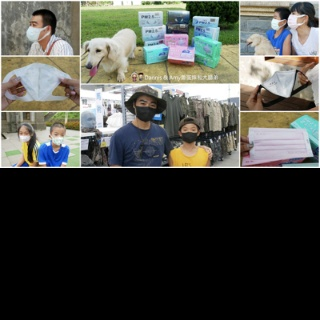with_mask: (134, 99, 157, 123), (25, 20, 45, 43), (181, 125, 198, 144), (288, 12, 303, 29), (51, 131, 65, 146), (271, 15, 283, 31), (18, 129, 30, 143)
